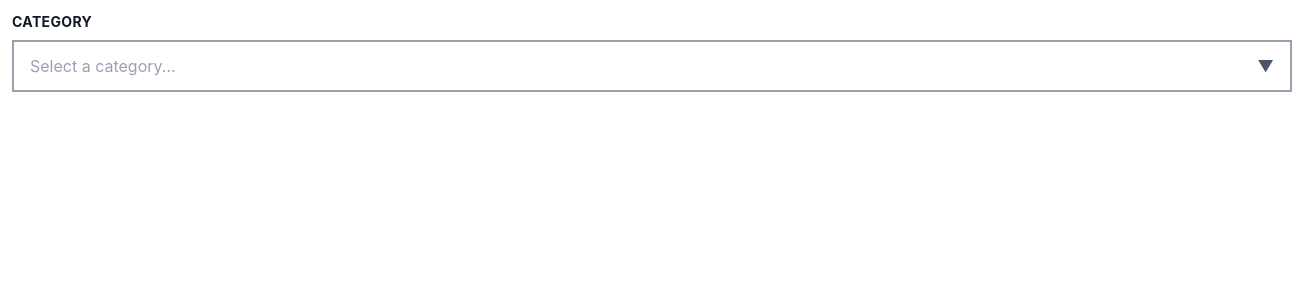
ProductCategoryField › opens with keyboard and selects an option
Press Enter in the button "Select a category... ▼", box left=12, top=40, right=1292, bottom=92
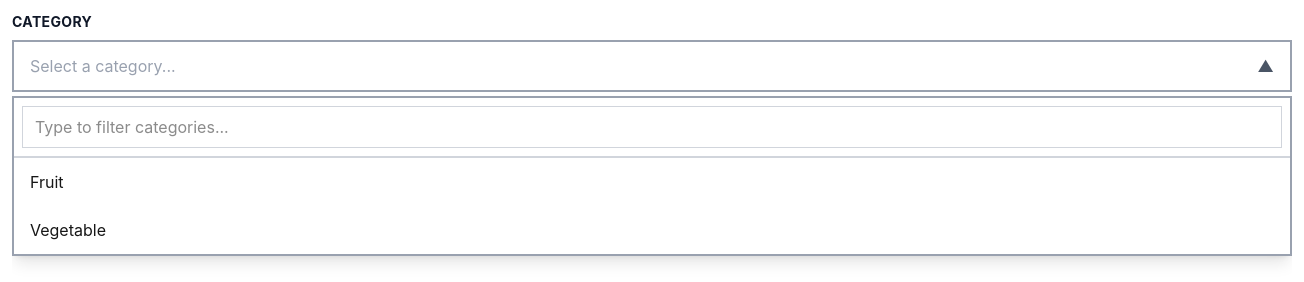
Expected: the field with placeholder "Type to filter categories..." is shown, left=22, top=106, right=1282, bottom=148
Click the button "Vegetable" at (68, 230), box left=14, top=206, right=1290, bottom=254
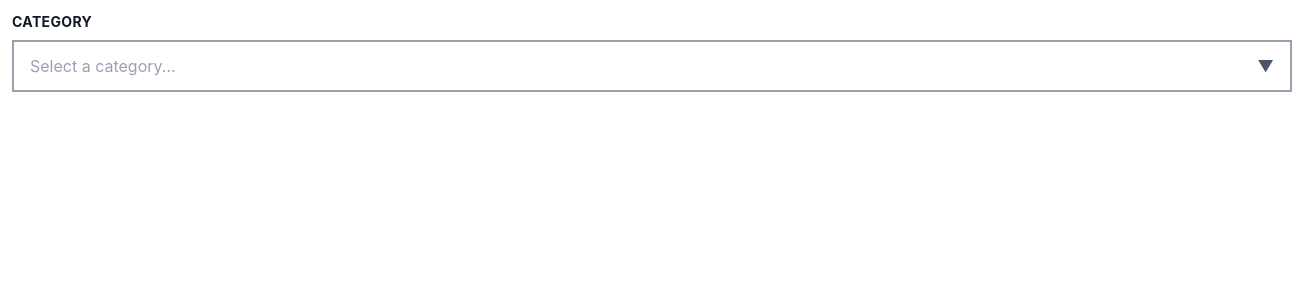
Expected: the button "Vegetable" is gone
